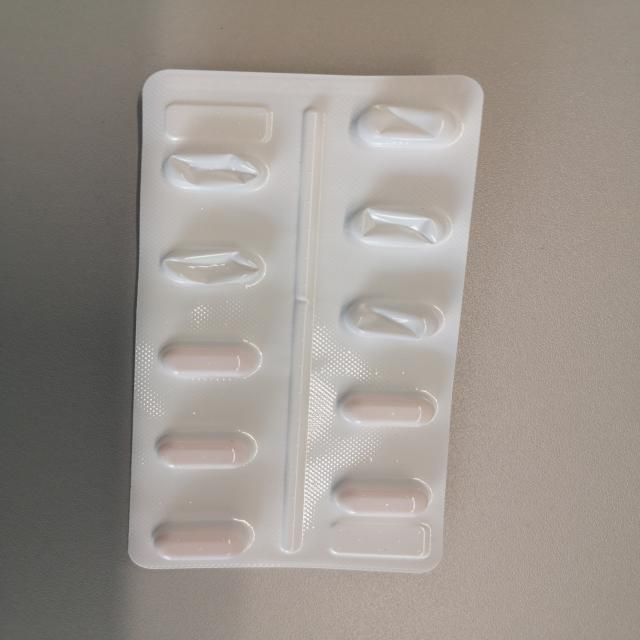Empty: (345, 98, 469, 152), (149, 242, 272, 294), (155, 144, 272, 196), (336, 201, 455, 252), (336, 294, 448, 344)
Pill: (150, 332, 268, 383), (148, 424, 258, 473), (324, 474, 436, 522), (330, 382, 441, 430), (145, 516, 257, 562)
